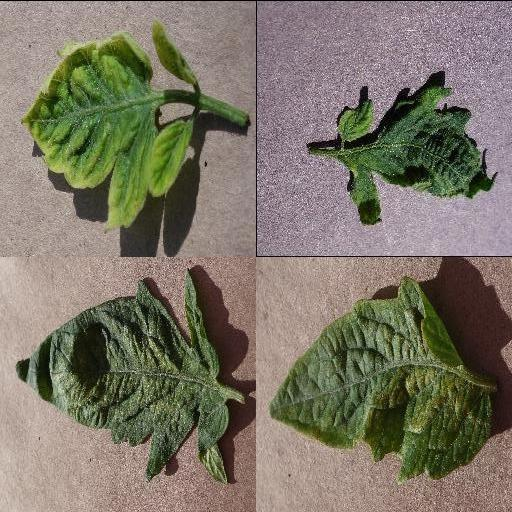Mosaic Virus: (335, 86, 499, 226)
Spider Mites: (15, 266, 231, 482), (269, 275, 495, 481)
Yellow Leaf Curl Virus: (19, 30, 153, 224), (144, 117, 196, 197), (150, 19, 198, 79)
